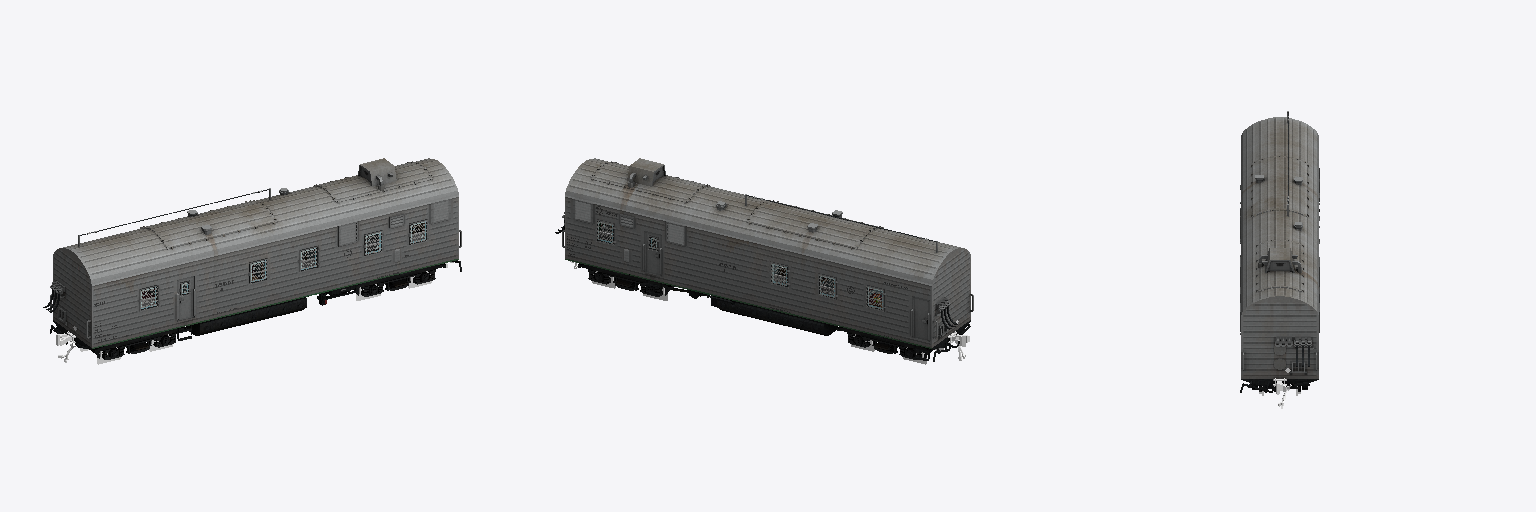
3 renders of one model, left to right at view 1: azimuth 30°, elevation 25°; view 2: azimuth 150°, elevation 25°; view 3: azimuth 270°, elevation 25°, orthographic.
Visible parts, largest first — view 1: FRAME_1_mvp_bmz_diesel_16-3001, BOGEY_FRONT_mvp_bmz_diesel_16-3001, BOGEY_REAR_mvp_bmz_diesel_16-3001, INTERIOR_1_LCG_IL_mvp_bmz_diesel_16-3001, DOOR_1_TOGGLE_EXTERNAL_LCG_IL_CG_door1_mvp_disel; view 2: FRAME_1_mvp_bmz_diesel_16-3001, BOGEY_FRONT_mvp_bmz_diesel_16-3001, BOGEY_REAR_mvp_bmz_diesel_16-3001, DOOR_2_TOGGLE_EXTERNAL_LCG_IL_CG_door2_mvp_disel; view 3: FRAME_1_mvp_bmz_diesel_16-3001.
Boxes of the visible parts, x1,y1,x2,y2 form: FRAME_1_mvp_bmz_diesel_16-3001: [50, 158, 461, 348]; BOGEY_FRONT_mvp_bmz_diesel_16-3001: [89, 327, 186, 359]; BOGEY_REAR_mvp_bmz_diesel_16-3001: [354, 263, 445, 296]; INTERIOR_1_LCG_IL_mvp_bmz_diesel_16-3001: [142, 223, 424, 306]; DOOR_1_TOGGLE_EXTERNAL_LCG_IL_CG_door1_mvp_disel: [178, 277, 192, 320]; FRAME_1_mvp_bmz_diesel_16-3001: [562, 158, 973, 360]; BOGEY_FRONT_mvp_bmz_diesel_16-3001: [837, 327, 934, 359]; BOGEY_REAR_mvp_bmz_diesel_16-3001: [578, 263, 674, 296]; DOOR_2_TOGGLE_EXTERNAL_LCG_IL_CG_door2_mvp_disel: [646, 232, 660, 275]; FRAME_1_mvp_bmz_diesel_16-3001: [1240, 111, 1319, 394].
Bounding box in the file's own units: 19.31 × 5.69 × 3.38.
7 materials, 4 textured.